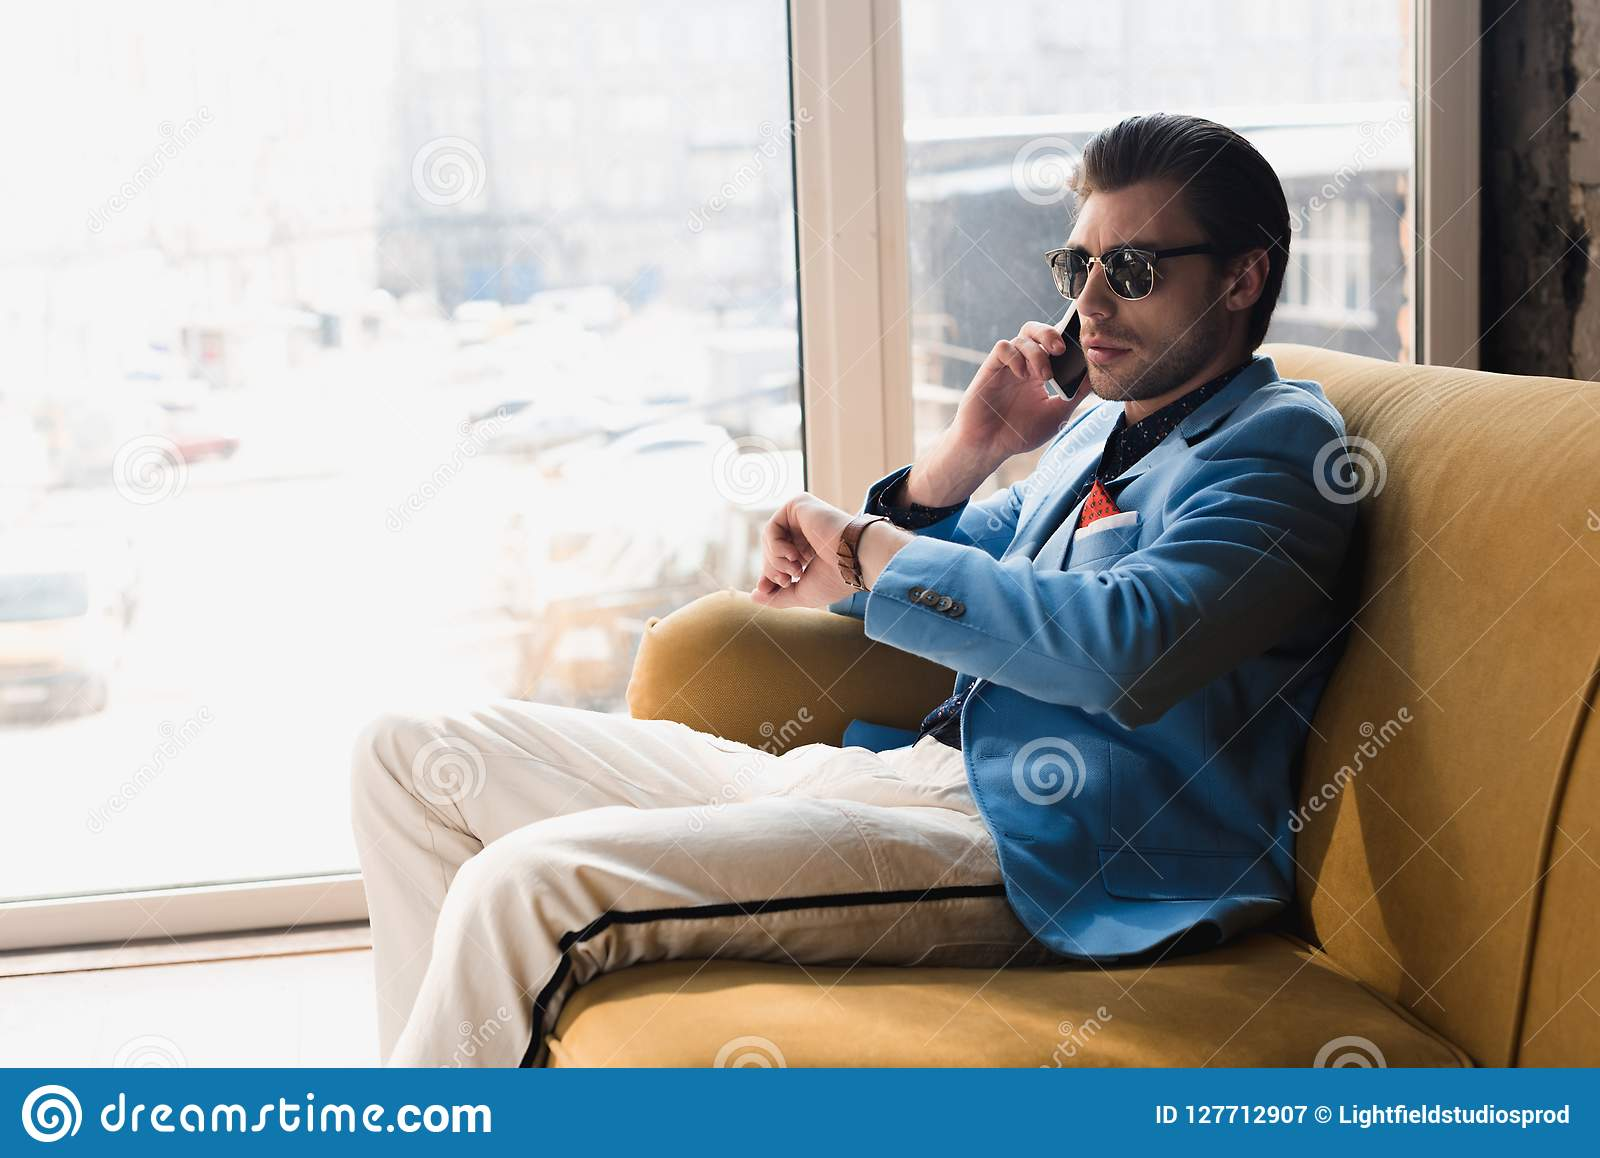phone: (1045, 297, 1089, 408)
talk: (952, 229, 1202, 467)
